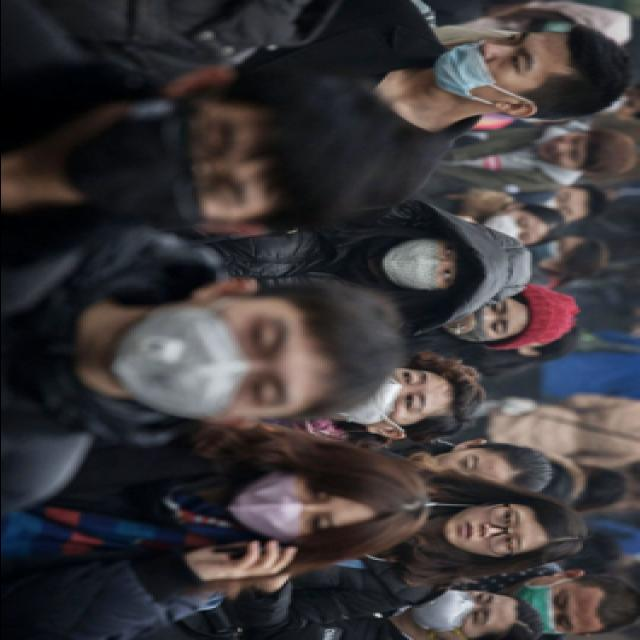mask: (62, 97, 258, 230), (103, 296, 300, 421), (227, 469, 345, 541), (333, 365, 437, 427), (410, 588, 502, 638), (379, 238, 461, 290), (514, 576, 586, 634), (444, 296, 516, 341), (481, 212, 536, 242)
no_mask: (432, 32, 546, 104), (447, 506, 529, 558), (538, 130, 592, 172)
